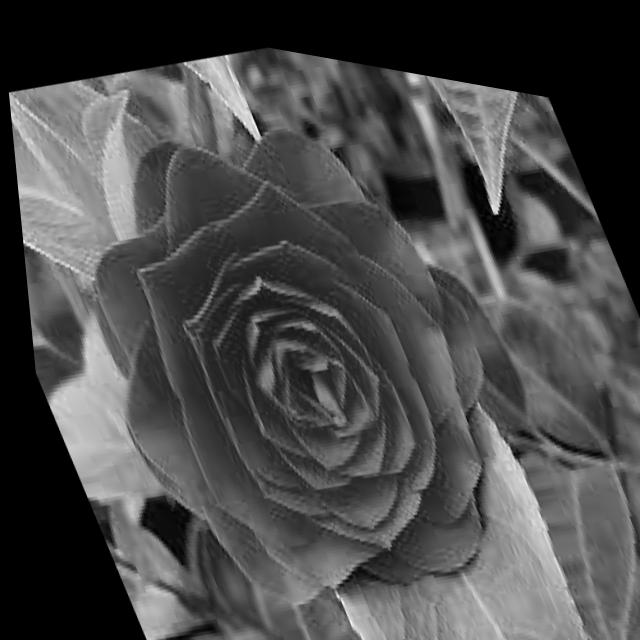Flower: (17, 39, 582, 640)
